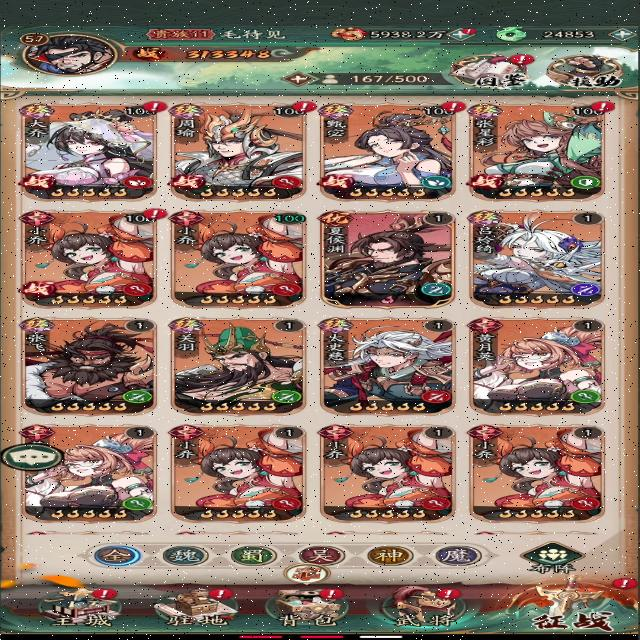hint-reddot: (581, 99, 622, 113), (434, 98, 468, 114), (316, 585, 346, 602), (428, 586, 465, 599), (606, 575, 637, 590), (141, 206, 174, 220), (290, 99, 317, 114), (511, 52, 536, 66), (209, 587, 235, 600), (142, 99, 164, 113), (90, 588, 116, 599), (454, 25, 479, 35)
navigation-bag: (261, 585, 373, 630)
navigation-fight: (499, 580, 631, 634)
navigation-hero: (387, 583, 471, 630)
navigation-main: (23, 584, 128, 628)
navigation-myHeroes: (314, 101, 458, 204), (21, 100, 160, 202), (466, 102, 610, 200), (167, 103, 309, 202), (18, 212, 160, 311), (19, 318, 159, 418), (317, 210, 455, 310), (168, 316, 306, 416), (17, 426, 159, 522), (315, 426, 456, 522), (168, 210, 306, 308), (466, 319, 605, 416), (315, 317, 455, 411), (167, 424, 307, 518), (468, 424, 605, 518), (465, 210, 606, 301), (0, 313, 215, 325)
navigation-role: (13, 28, 124, 81)
navigation-station-on: (154, 582, 252, 629)
operation-assistance: (544, 52, 634, 90)
operation-camp: (363, 544, 416, 568), (224, 544, 280, 566), (296, 544, 349, 566), (158, 544, 210, 566), (93, 544, 140, 566), (430, 545, 478, 565)
operation-deployment: (514, 540, 585, 578)
operation-gallery: (450, 51, 532, 90)
